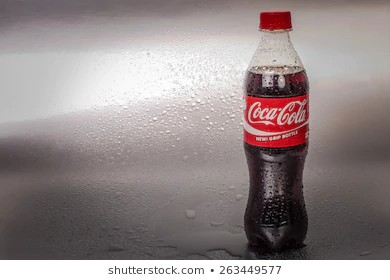coke-bottle-700ml: (242, 2, 310, 251)
